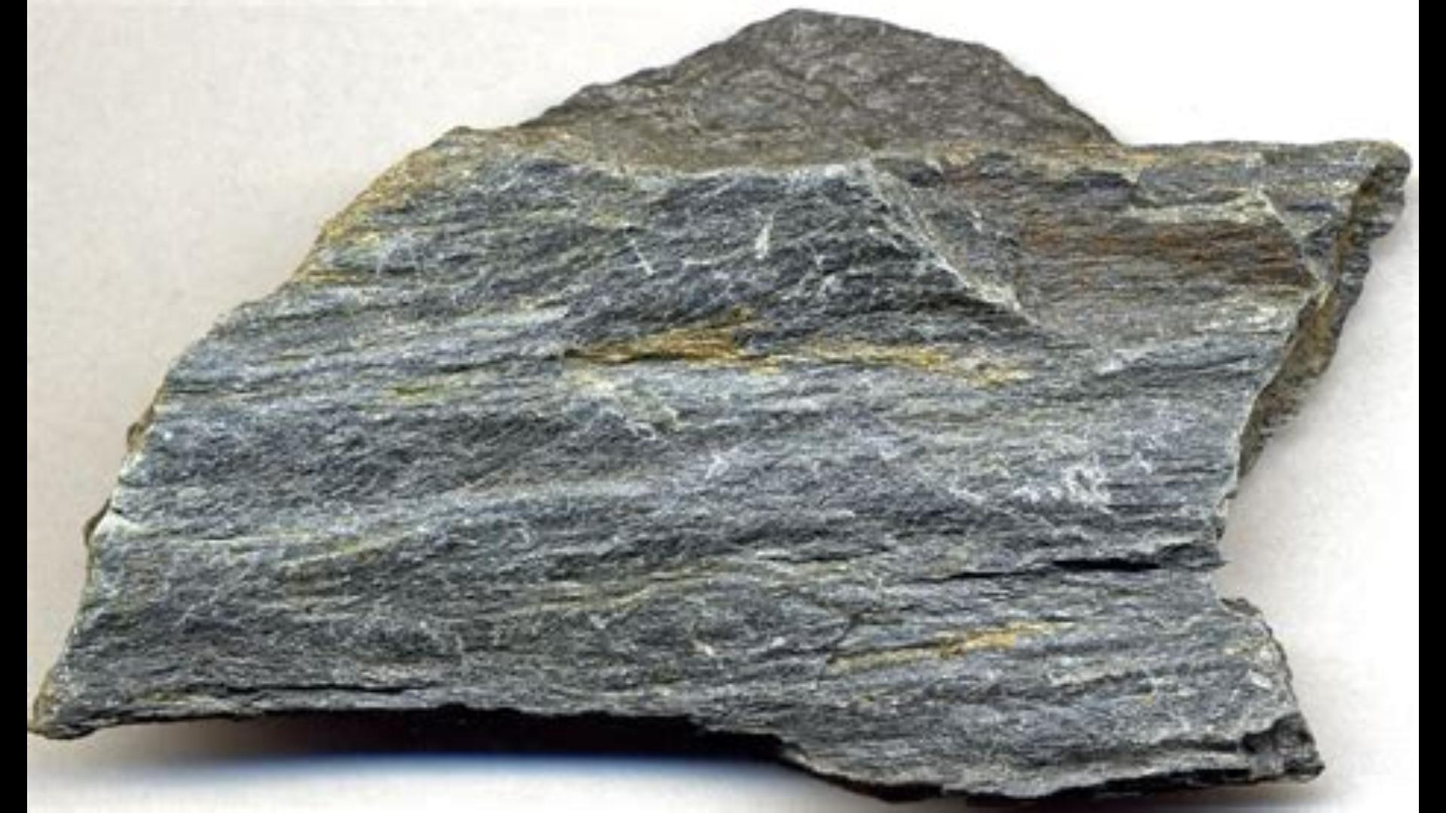rock: (36, 12, 1404, 787)
